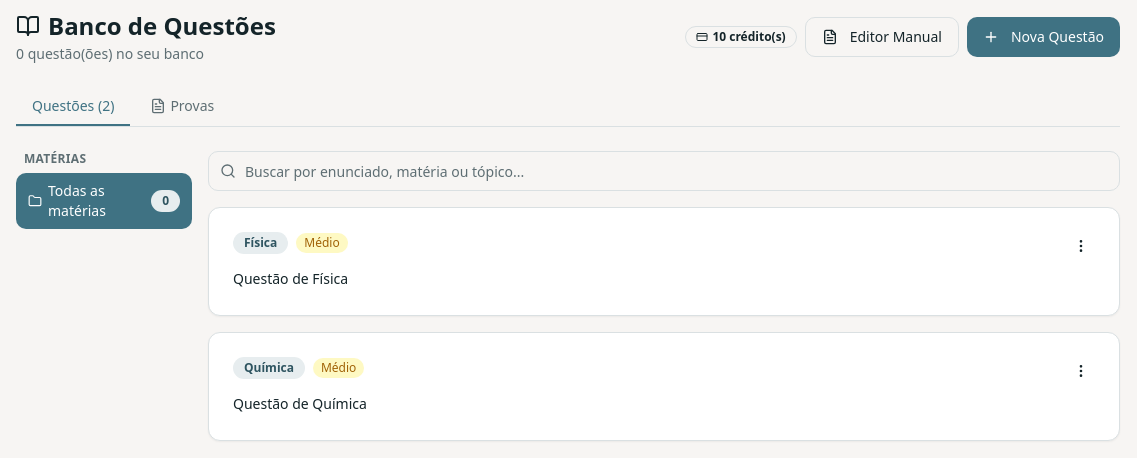
Test: QuestionBankPage › search filters questions by subject match
In the field with placeholder "Buscar por enunciado, matéria ou tópico...": (664,171) 208,151 -> 1120,191, type "Física"
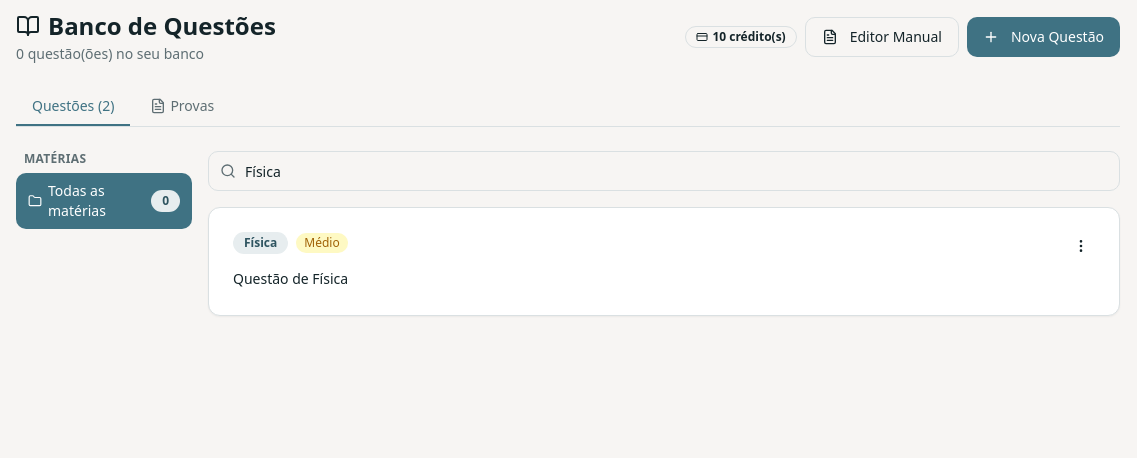
Expected: the text "Questão de Física" is shown, 233,269 -> 348,288
Now the text "Questão de Química" is gone
